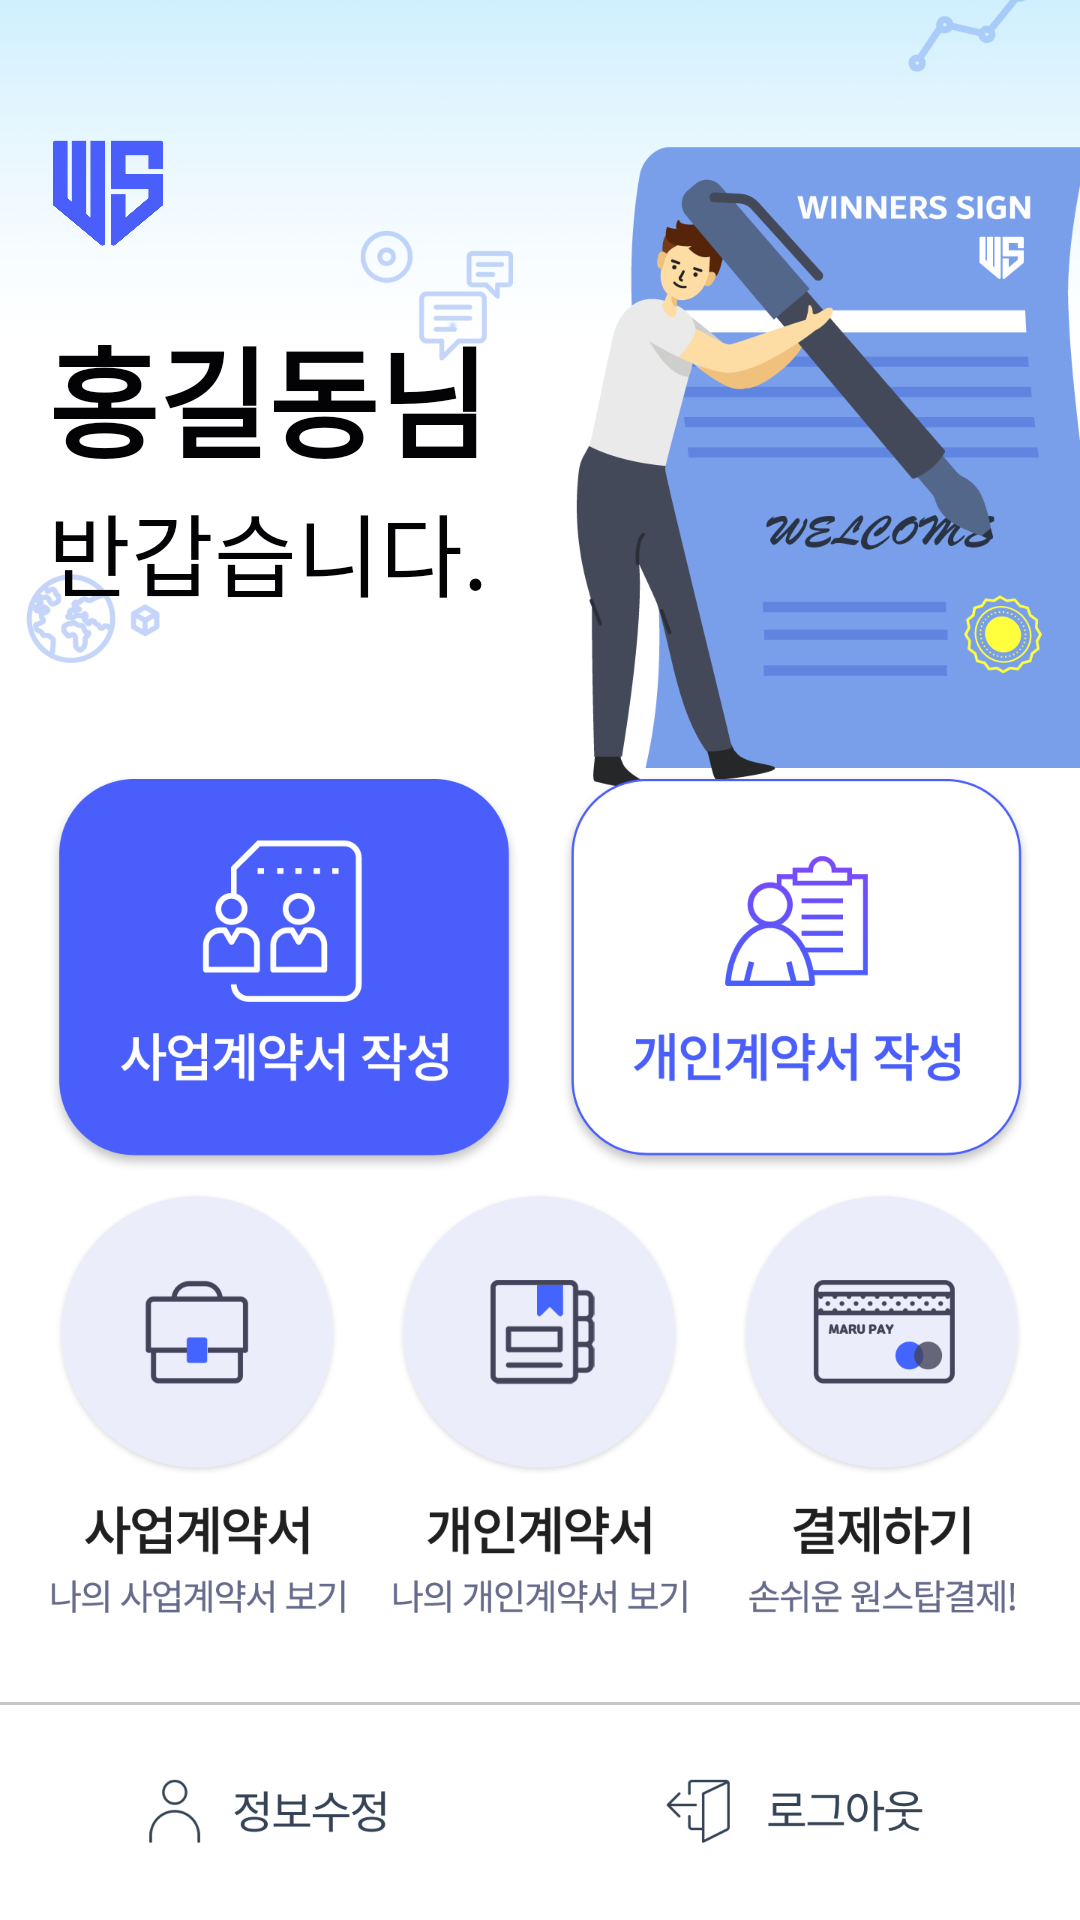

Where icons sit on this 1080x1920 app screen, as region(x1, y1, x2, y2):
toggle contract in: region(634, 856, 960, 1081)
